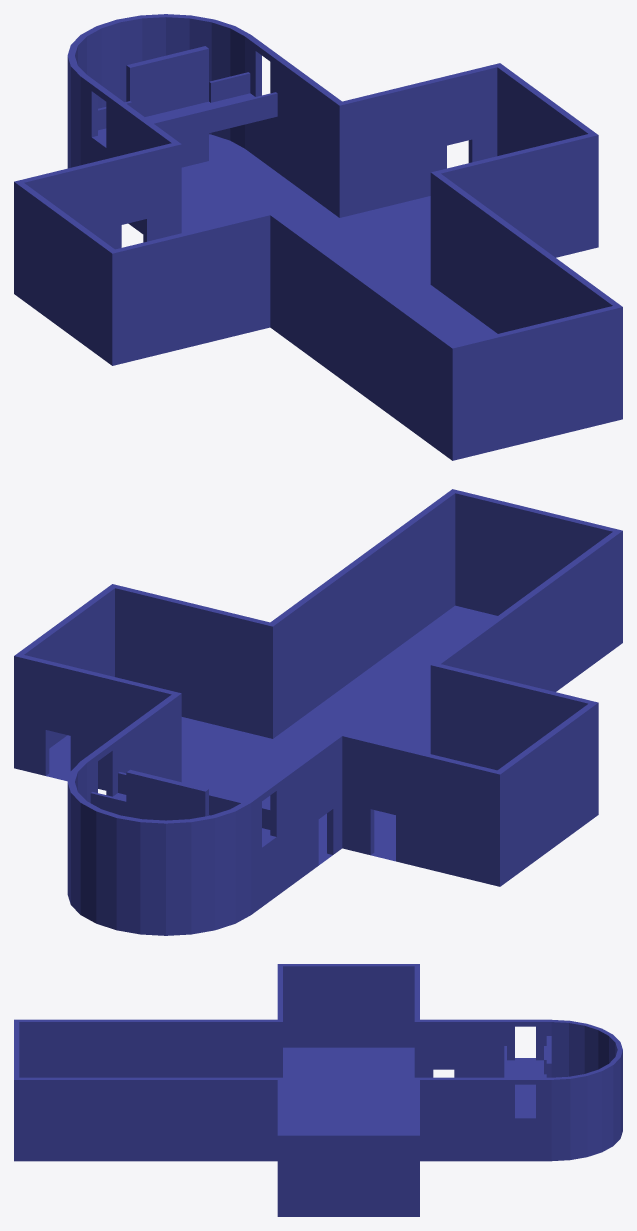
Rendered from MainChurch_1_MASTER.fbx.
3 views of the same model, one above another, from view 1: azimuth 30°, elevation 25°; view 2: azimuth 150°, elevation 25°; view 3: azimuth 270°, elevation 25° (orthographic). The views are drawn at different scales.
Visible parts, largest first — view 1: MainChurch; view 2: MainChurch; view 3: MainChurch.
Part boxes in pixels (box(x1,y1,x2,y2)): MainChurch: box(14, 14, 622, 460); MainChurch: box(14, 489, 622, 935); MainChurch: box(14, 964, 622, 1216).
Size of the model in its own units: 924 by 204 by 1386.
